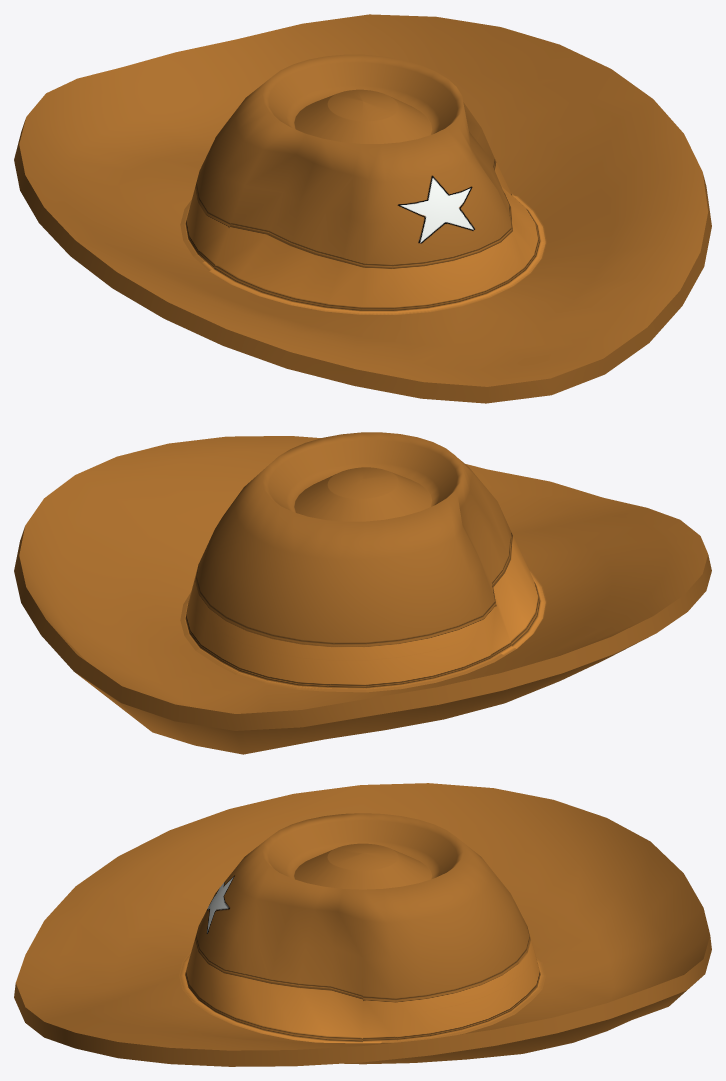
File: CowBoyHat.fbx
3 views of the same model, one above another, from view 1: azimuth 30°, elevation 25°; view 2: azimuth 150°, elevation 25°; view 3: azimuth 270°, elevation 25° (orthographic). The views are drawn at different scales.
Visible parts, largest first — view 1: Sphere001; view 2: Sphere001; view 3: Sphere001.
Boxes of the visible parts, box(x1,y1,x2,y2) form: Sphere001: box(14, 14, 711, 403); Sphere001: box(14, 432, 711, 754); Sphere001: box(14, 783, 711, 1066).
Bounding box in the file's own units: 34.88 × 9.3 × 38.82.
